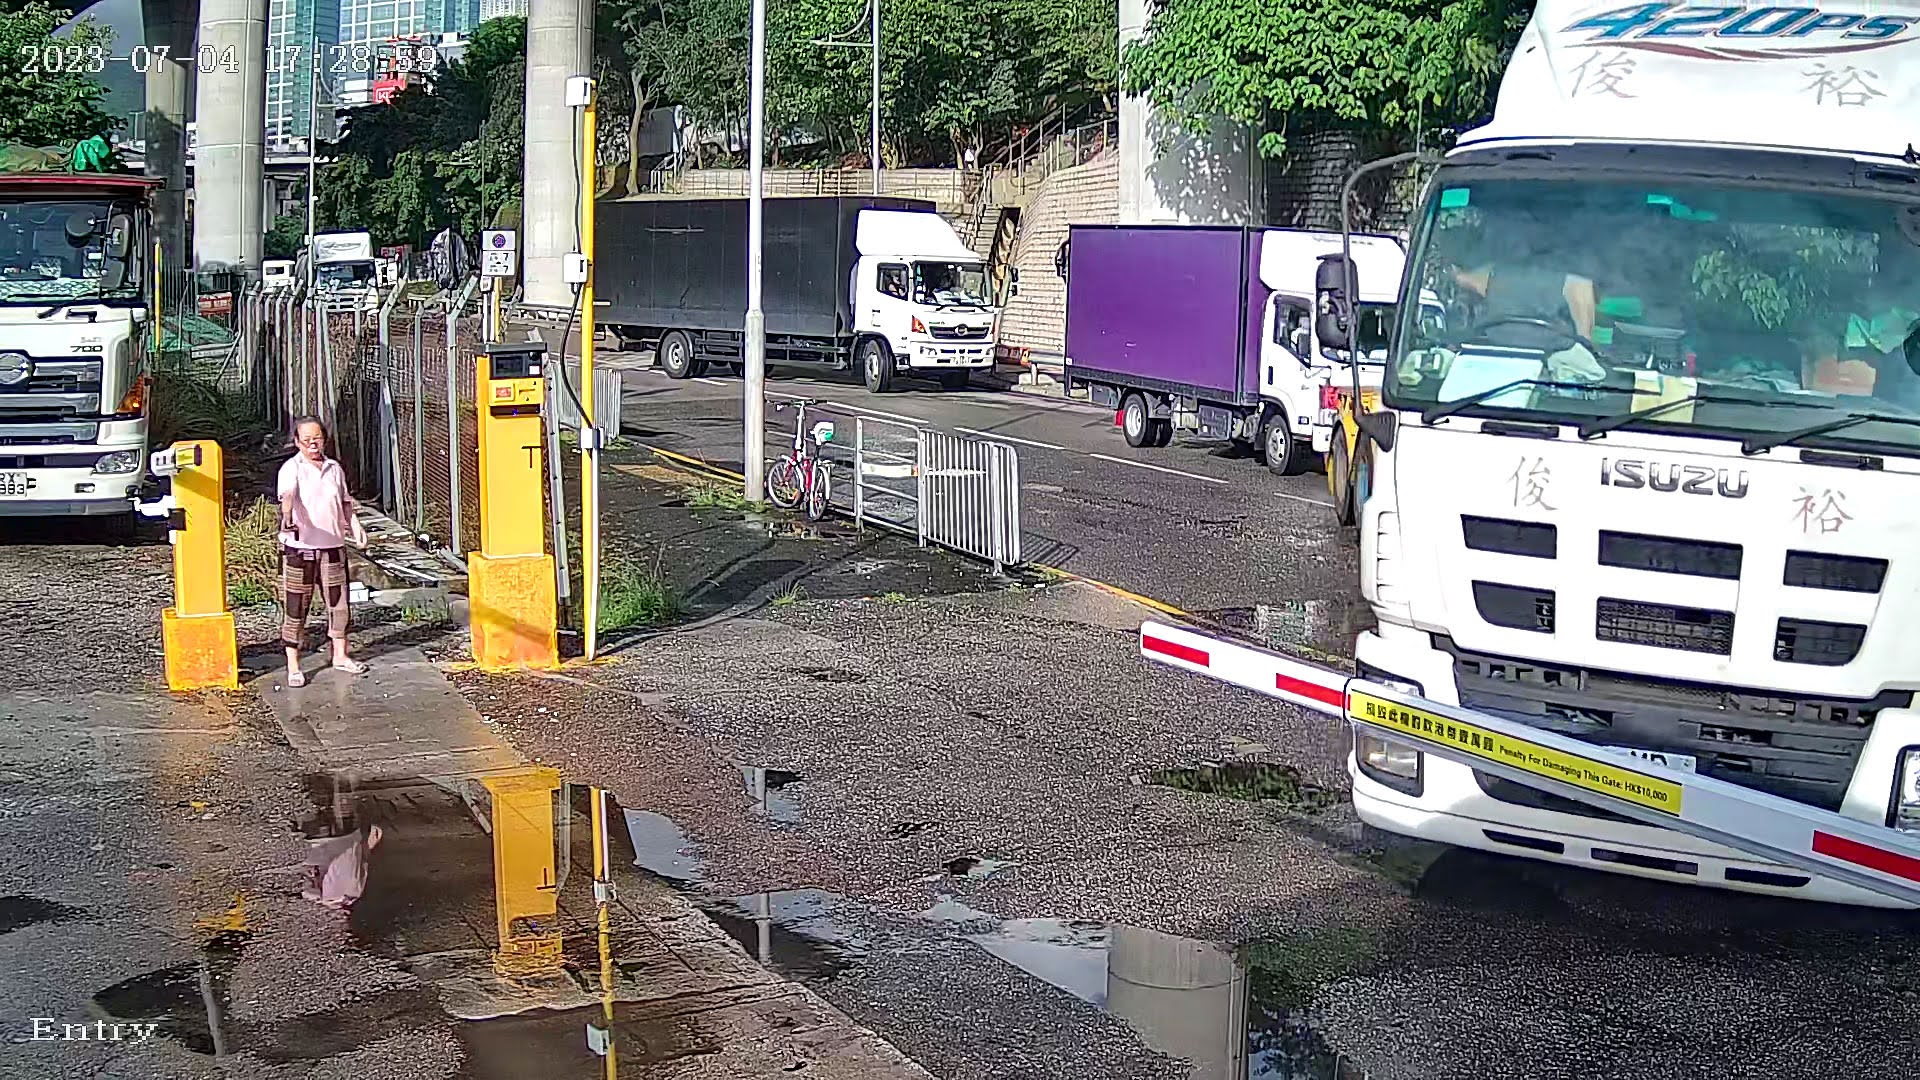truck_large: (1247, 7, 1920, 913)
